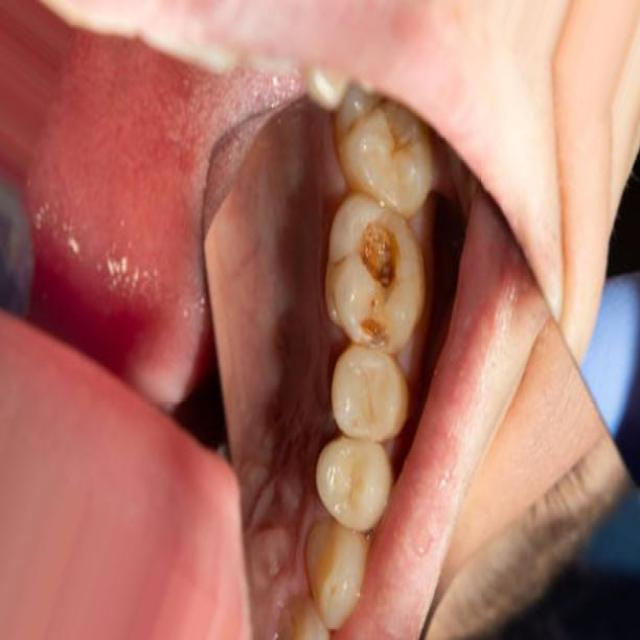caries: (350, 210, 404, 294), (348, 305, 396, 360)
